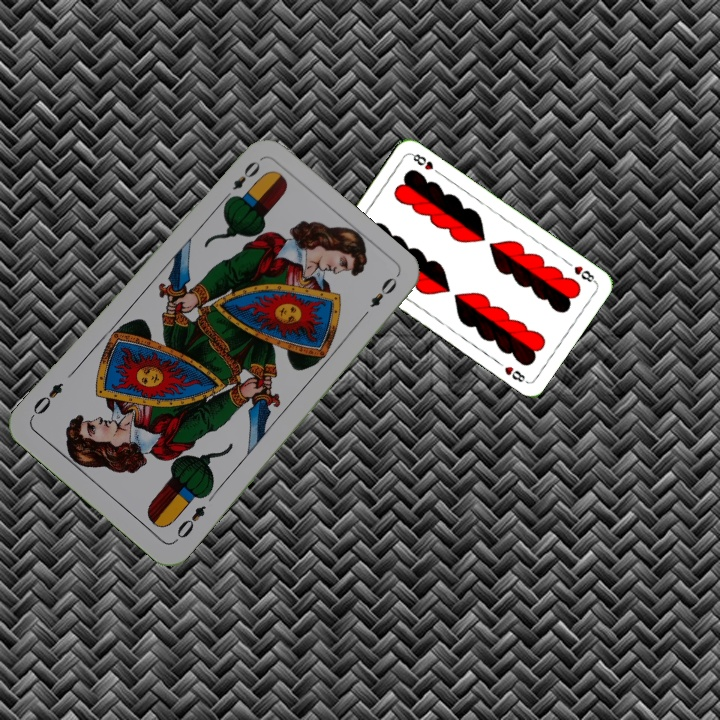EO: (218, 156, 263, 205), (170, 501, 209, 545)
H8: (570, 262, 599, 285)
